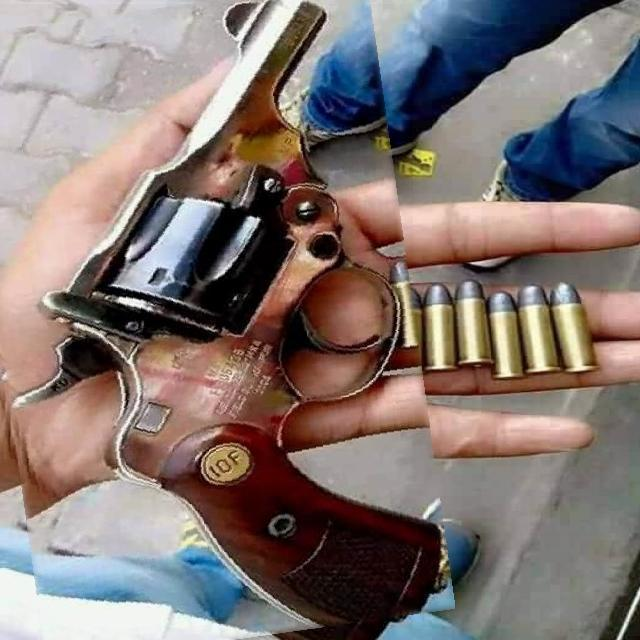rifle: (77, 0, 457, 634)
